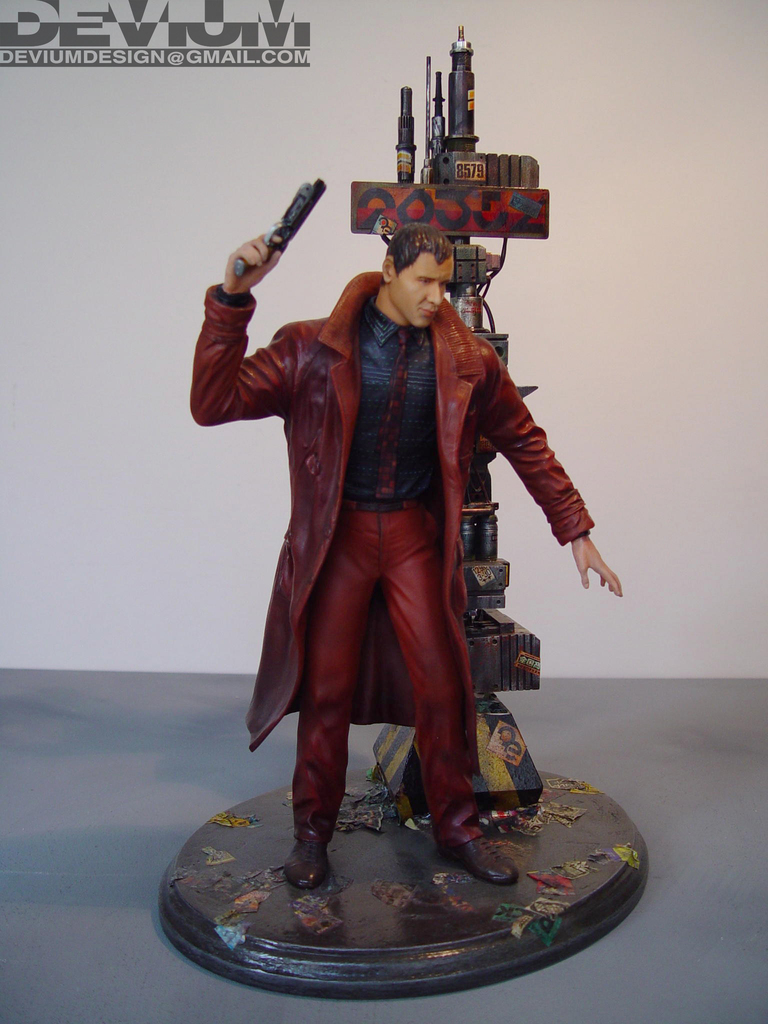Person: (190, 222, 624, 887)
